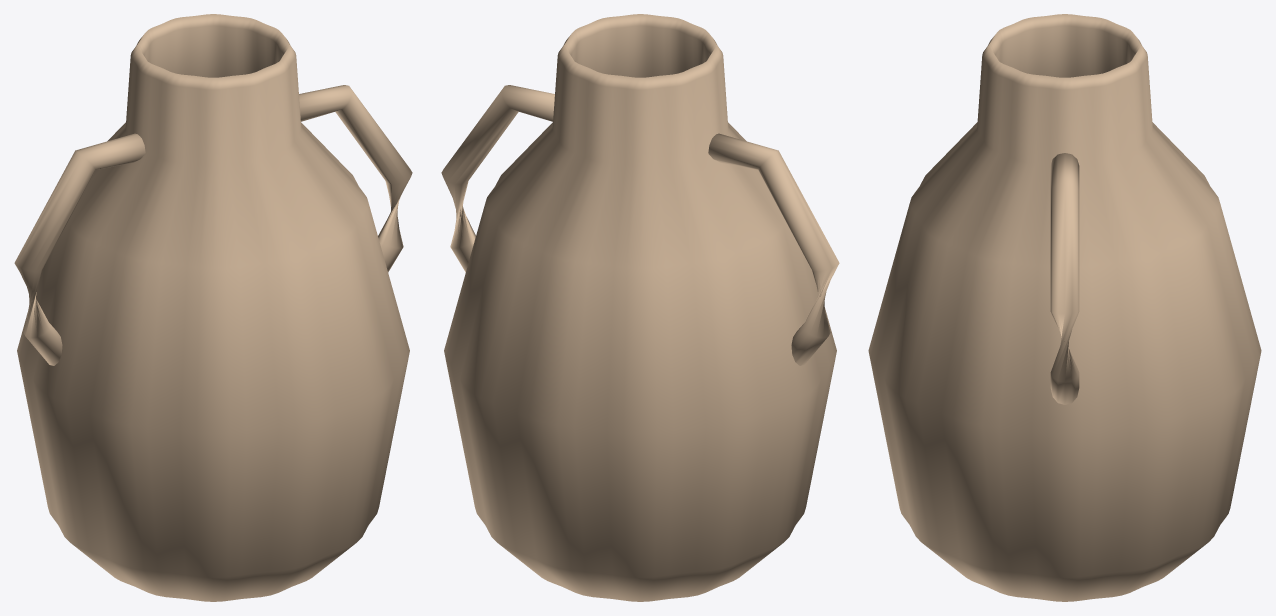
Rendered from floor_amphora.glb.
The picture shows the model from 3 angles, left to right: view 1: azimuth 30°, elevation 25°; view 2: azimuth 150°, elevation 25°; view 3: azimuth 270°, elevation 25°; orthographic projection.
Visible parts, largest first — view 1: floor_amphora__body; view 2: floor_amphora__body; view 3: floor_amphora__body.
Boxes of the visible parts, x1,y1,x2,y2 form: floor_amphora__body: (14, 14, 412, 601); floor_amphora__body: (441, 14, 839, 601); floor_amphora__body: (868, 14, 1261, 601).
Bounding box in the file's own units: 0.4466 × 0.55 × 0.3857.
